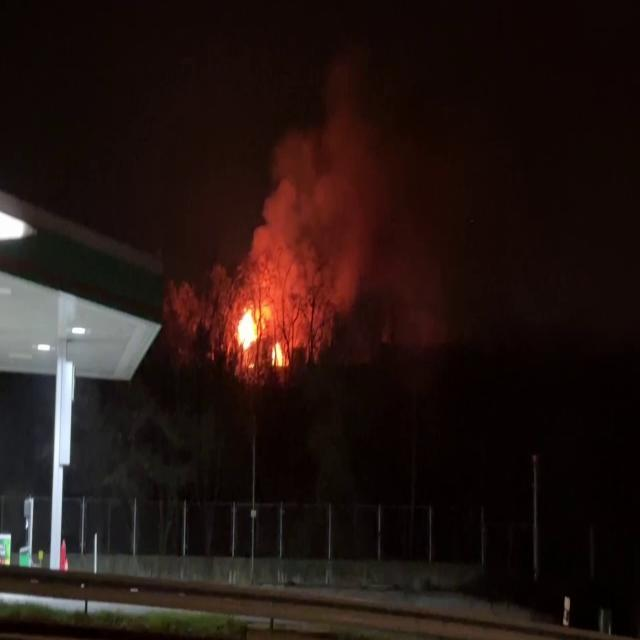Fire: (229, 286, 289, 372)
Smoke: (240, 31, 485, 320)
